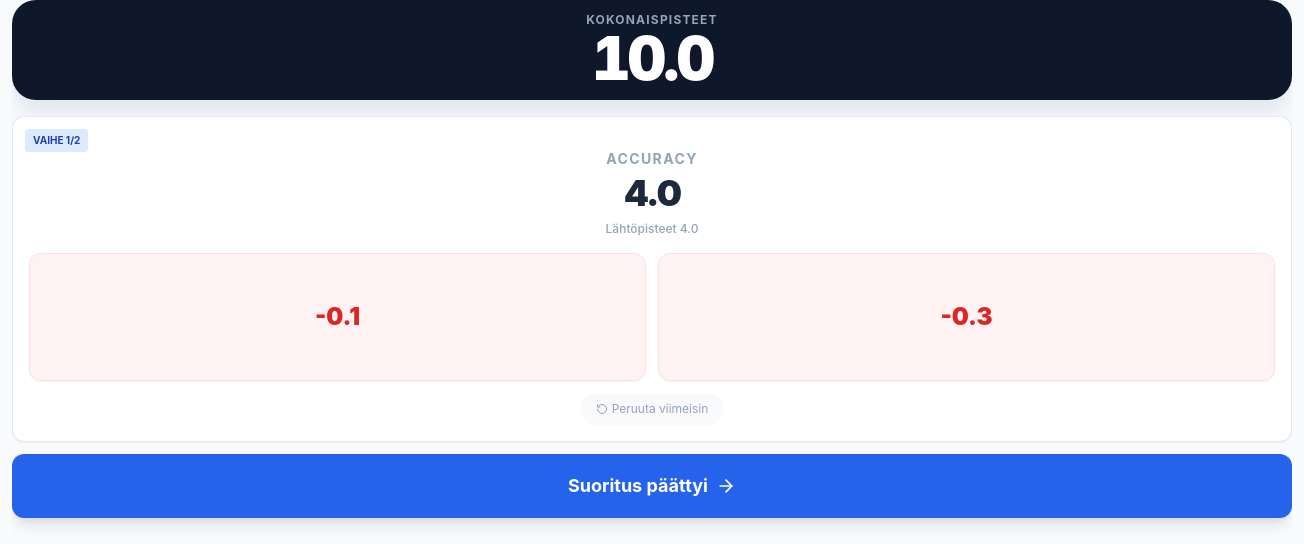
ScoringTab › deducts points correctly
Click the button "-0.3" at (966, 317), box [658, 253, 1275, 381]
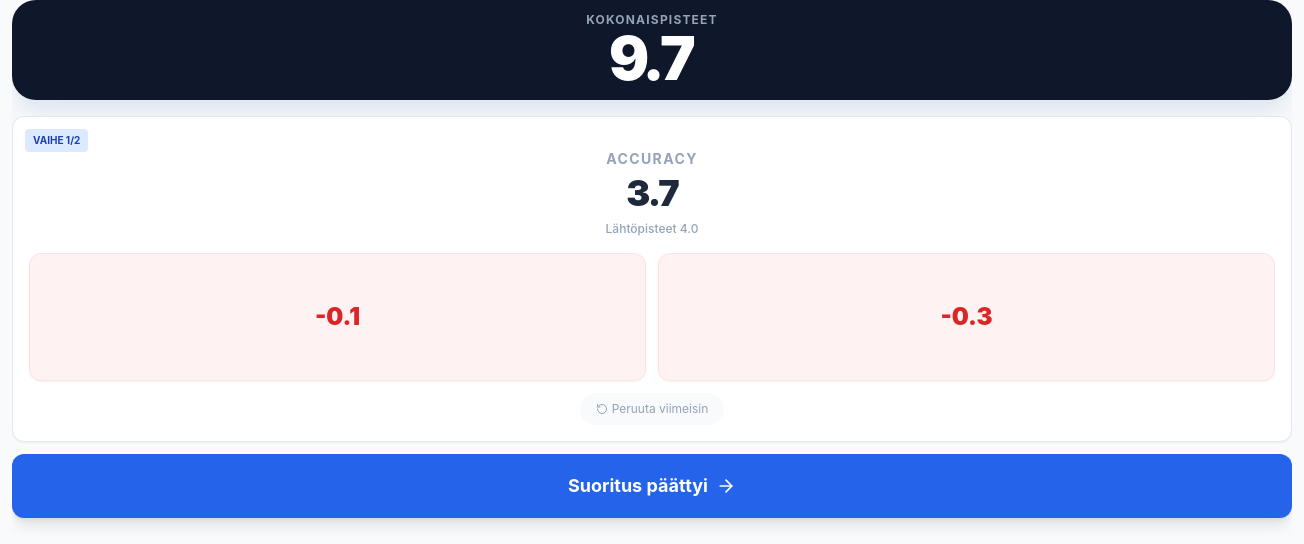
Expected: the text "3.7" is shown, [626, 173, 678, 213]
